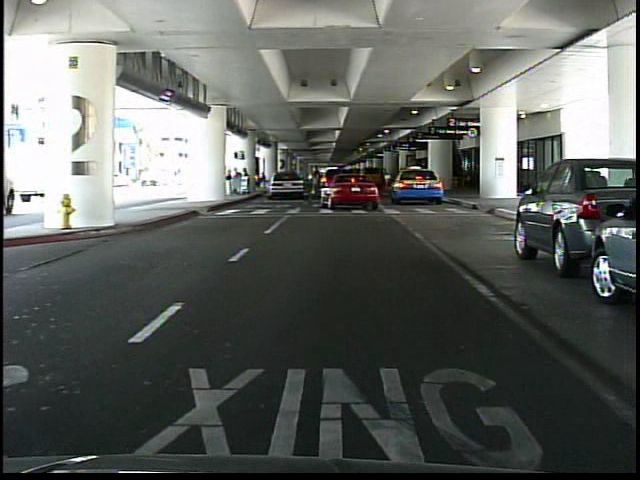person: (311, 165, 322, 198)
